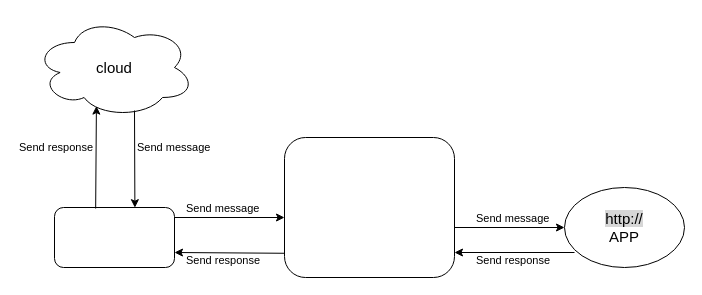
The diagram is 702 pixels wide and 295 high, and some of its shapes have lost their labels. The shapes that lost their labels are listed below. From the top down, each one's centre as x and y in pixels, then its label:
point 369,207: ServiceBus
point 114,237: EdgeHub
